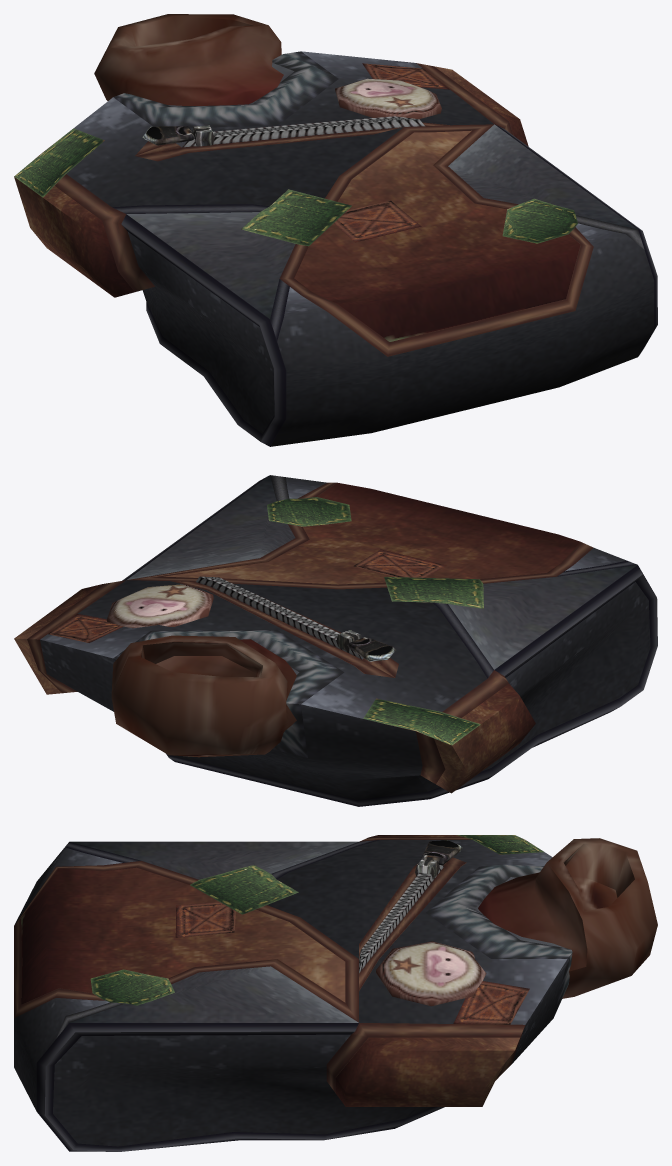
The model's file is PatchworkWetsuit.fbx.
3 renders of one model, top to bottom at view 1: azimuth 30°, elevation 25°; view 2: azimuth 150°, elevation 25°; view 3: azimuth 270°, elevation 25°, orthographic.
Visible parts, largest first — view 1: Plane.003; view 2: Plane.003; view 3: Plane.003.
Part boxes in pixels (bbox=[...]): Plane.003: bbox=[14, 14, 657, 446]; Plane.003: bbox=[14, 475, 657, 806]; Plane.003: bbox=[14, 835, 657, 1151].
Size of the model in its own units: 90.57 by 37.18 by 114.
1 material, 1 textured.
